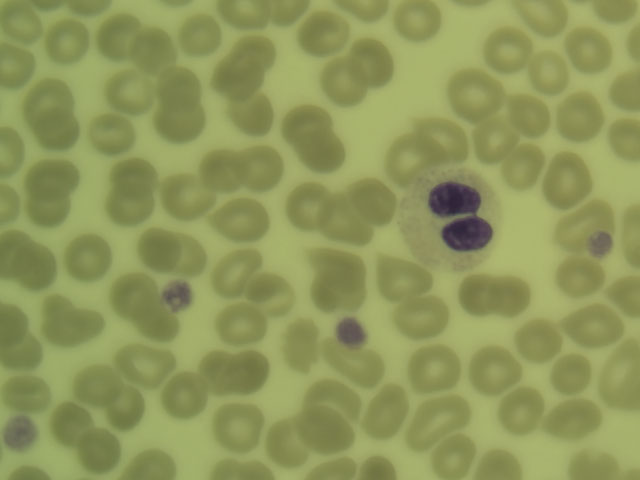Platelets: (164, 283, 191, 307), (340, 320, 364, 343), (6, 423, 33, 443)
RBC: (320, 56, 367, 105), (508, 81, 555, 130), (519, 45, 566, 94), (483, 28, 530, 77), (228, 79, 275, 128), (217, 48, 264, 97), (236, 29, 283, 78), (308, 373, 355, 422), (303, 400, 350, 449), (365, 383, 412, 432), (411, 341, 458, 390), (400, 293, 447, 342), (376, 252, 423, 301), (315, 242, 362, 291), (288, 185, 335, 234), (320, 196, 367, 245), (349, 176, 396, 225), (298, 128, 345, 177), (447, 70, 494, 119), (47, 17, 94, 66), (28, 179, 75, 228), (29, 150, 76, 199), (35, 102, 82, 151), (27, 78, 74, 127), (89, 104, 136, 153), (183, 6, 230, 55), (103, 18, 150, 67), (131, 27, 178, 76), (110, 59, 157, 108), (158, 61, 205, 110), (158, 94, 205, 143), (49, 399, 96, 448), (103, 379, 150, 428), (214, 395, 261, 444), (161, 370, 208, 419), (198, 346, 245, 395), (222, 349, 269, 398), (214, 247, 261, 296), (109, 153, 156, 202), (105, 177, 152, 226), (557, 92, 604, 141), (494, 384, 541, 433), (469, 342, 516, 391), (568, 297, 615, 346), (545, 154, 592, 203), (498, 141, 545, 190), (563, 26, 610, 75), (428, 430, 475, 479), (549, 348, 596, 397), (549, 199, 596, 248), (269, 412, 316, 461), (353, 38, 400, 87), (420, 111, 467, 160), (381, 139, 444, 175), (326, 348, 387, 385), (393, 1, 440, 49), (1, 225, 38, 285), (278, 318, 320, 369), (406, 399, 477, 429), (122, 343, 171, 386), (160, 175, 211, 216), (551, 394, 603, 434), (300, 10, 351, 50), (40, 300, 83, 347), (14, 243, 57, 289), (130, 307, 181, 345), (220, 196, 269, 234), (112, 270, 154, 314), (75, 359, 120, 400), (251, 274, 296, 315), (67, 240, 111, 281), (217, 298, 267, 334), (488, 270, 527, 316), (558, 259, 602, 299), (605, 61, 640, 110), (163, 229, 203, 271), (605, 355, 640, 403), (127, 446, 177, 479), (515, 1, 565, 34), (573, 448, 622, 480), (1, 43, 38, 85), (481, 449, 531, 480), (201, 145, 240, 184), (135, 222, 176, 259), (75, 431, 117, 467), (518, 315, 560, 351), (239, 143, 277, 181), (609, 112, 640, 158), (5, 377, 49, 409), (1, 5, 38, 43), (357, 450, 402, 480), (459, 274, 494, 311), (2, 332, 40, 366), (64, 308, 103, 340), (214, 456, 266, 480), (612, 267, 640, 309), (1, 305, 27, 346), (588, 1, 632, 24), (345, 1, 386, 21), (628, 205, 640, 262)
WBC: (404, 177, 498, 265)
